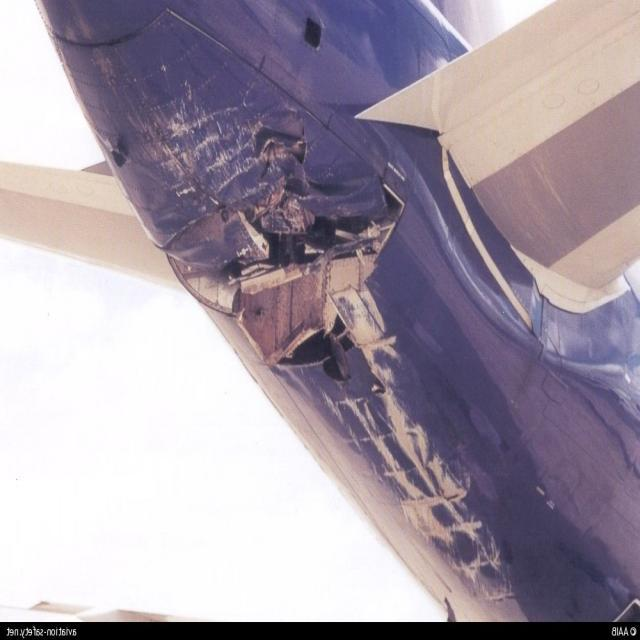crack: (221, 129, 406, 387)
